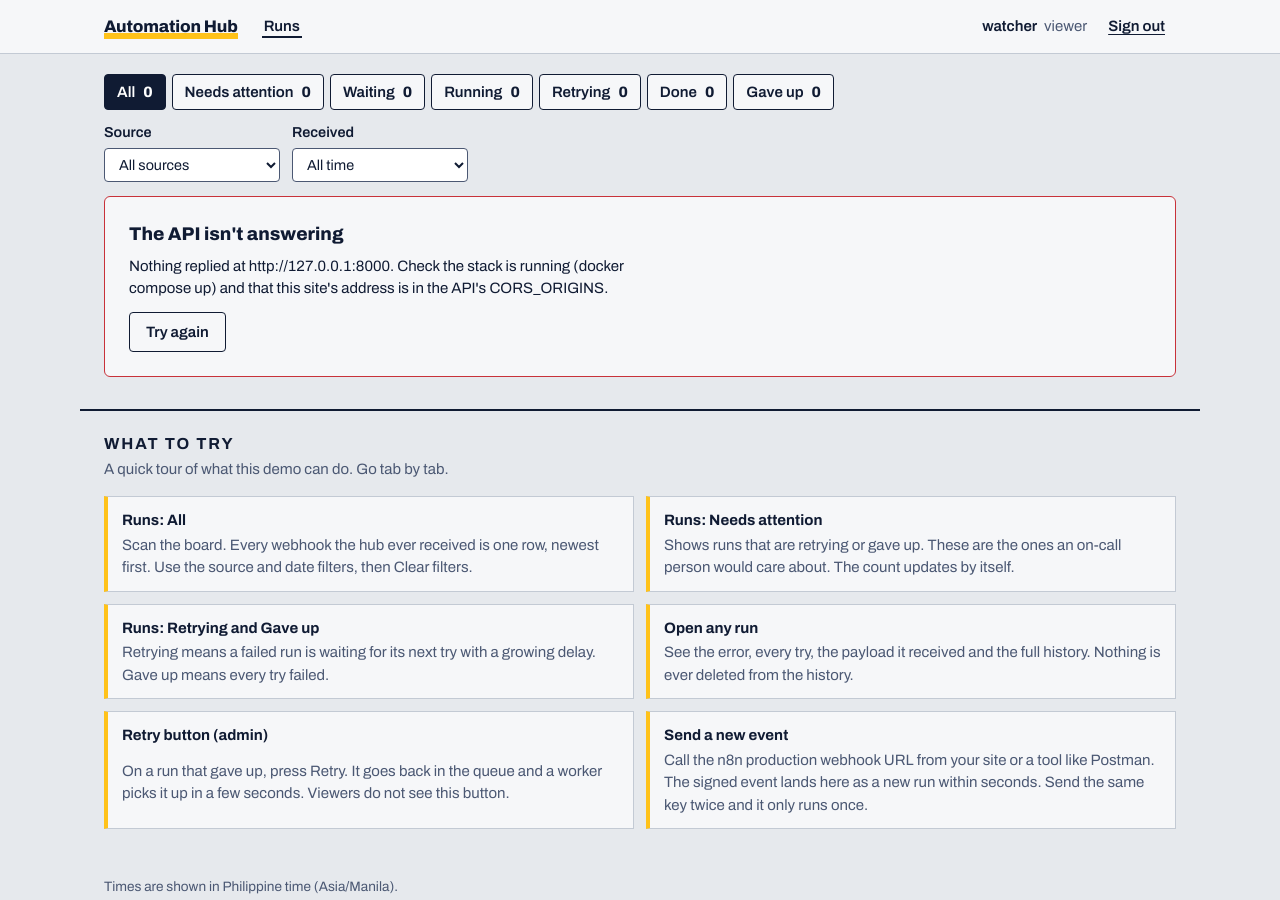
Test: the runs board › explains an unreachable API and can try again
expect the text "The API isn't answering" is shown: met, box [129,224,344,244]
Click the button "Try again".
click(177, 332)  # box [129,312,226,352]
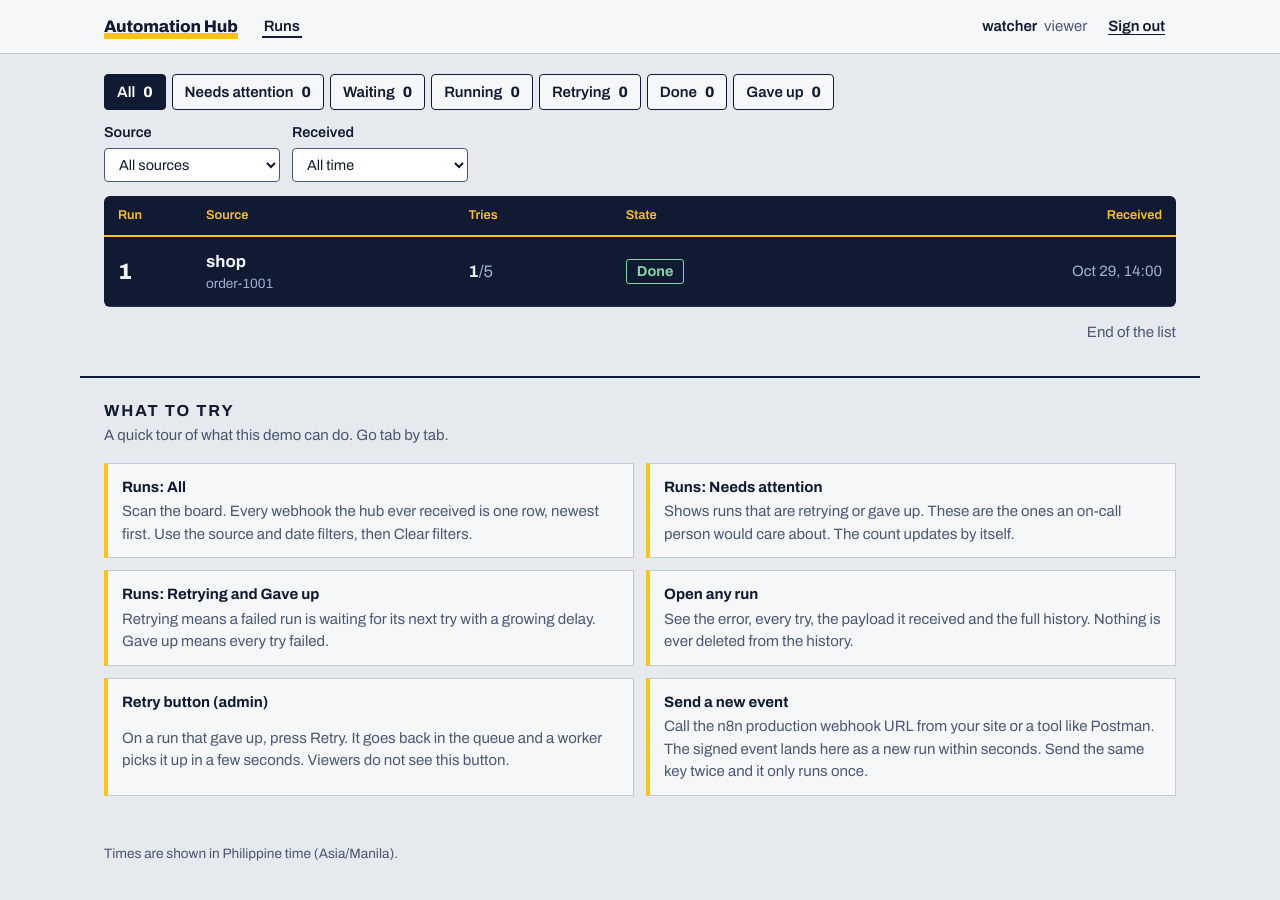
expect the link named "Open run 1" is shown: met, box [118,259,132,284]
